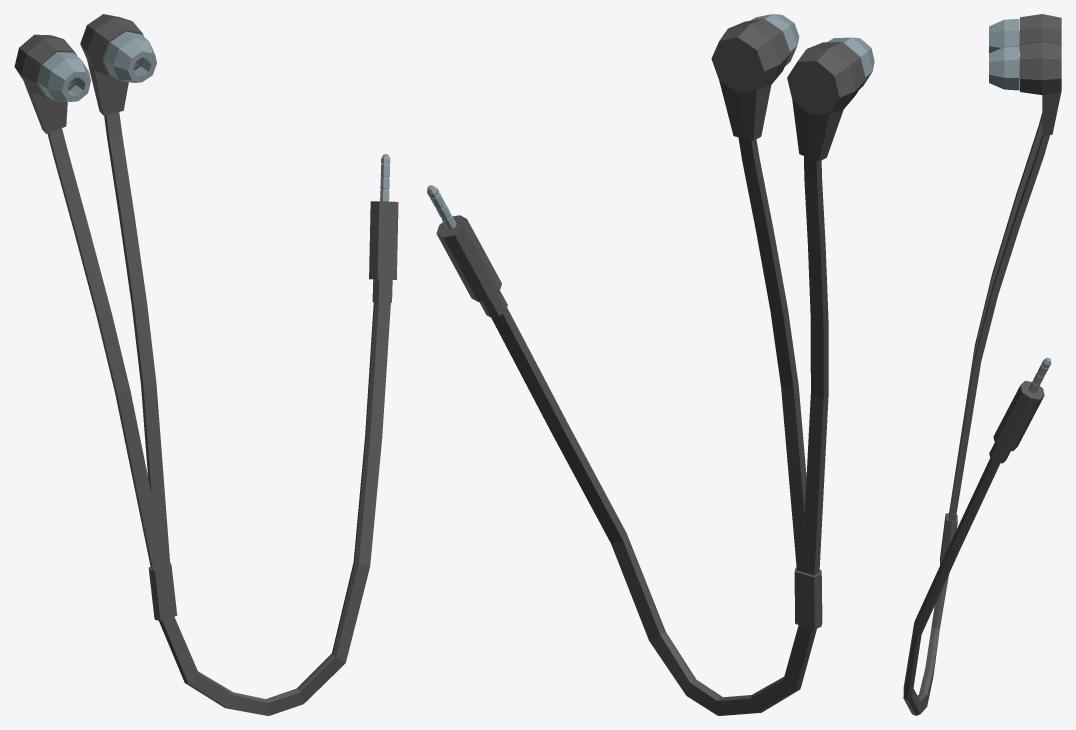
Rendered from earbuds-by-jeremy-04QGe8qeMSm.glb.
3 views of the same model, side by side, from view 1: azimuth 30°, elevation 25°; view 2: azimuth 150°, elevation 25°; view 3: azimuth 270°, elevation 25° (orthographic). The views are drawn at different scales.
Visible parts, largest first — view 1: Earbuds_Circle.003; view 2: Earbuds_Circle.003; view 3: Earbuds_Circle.003.
Boxes of the visible parts, <box> form: Earbuds_Circle.003: <box>14,14,398,715</box>; Earbuds_Circle.003: <box>427,14,874,715</box>; Earbuds_Circle.003: <box>903,14,1061,715</box>.
Size of the model in its own units: 6.87 by 11.89 by 2.72.
